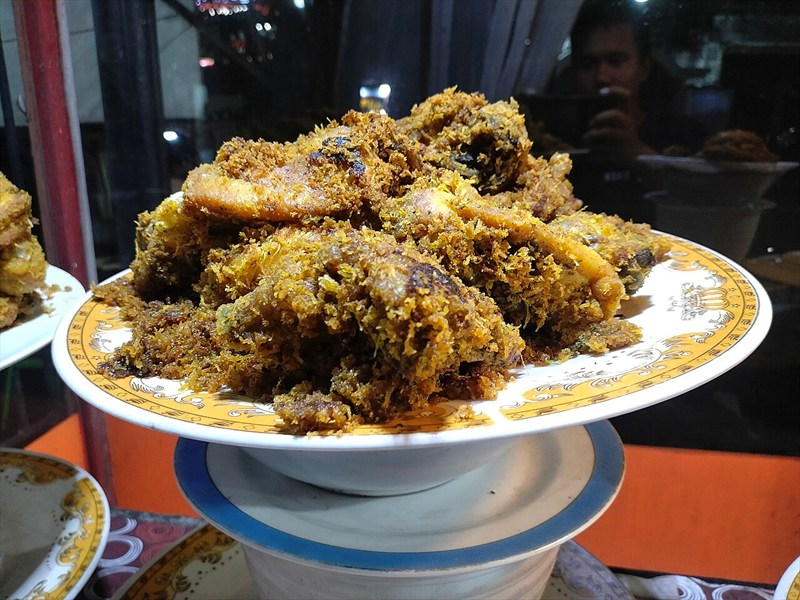Ayam Goreng: (42, 104, 738, 461)
